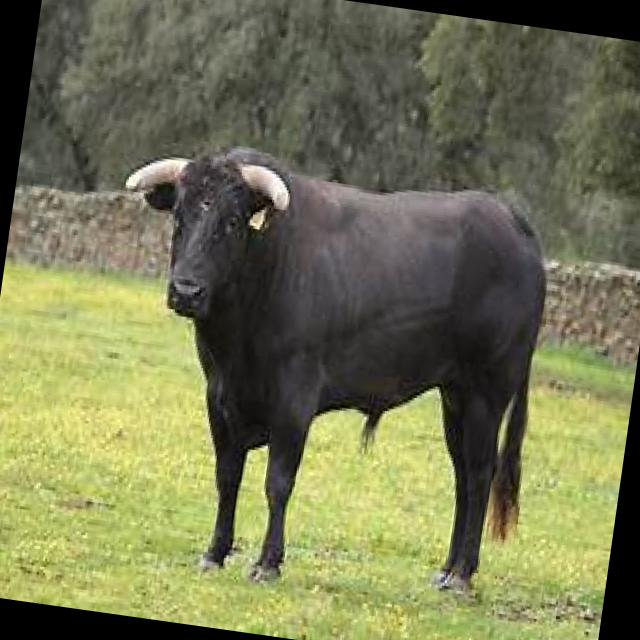cow: (80, 136, 560, 609)
